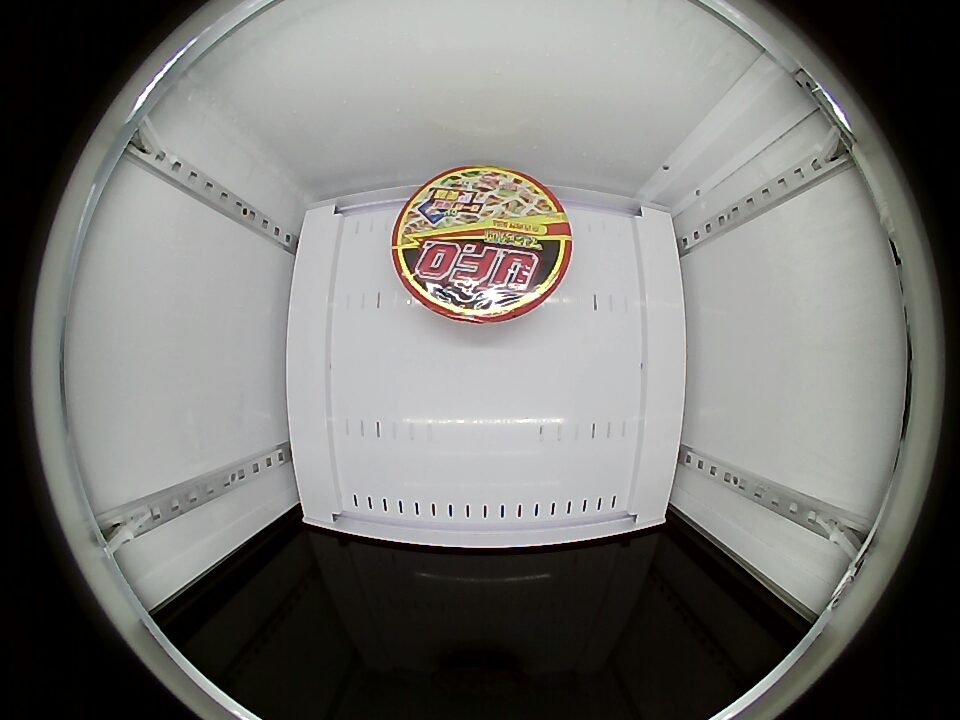ufo2: (391, 165, 573, 323)
